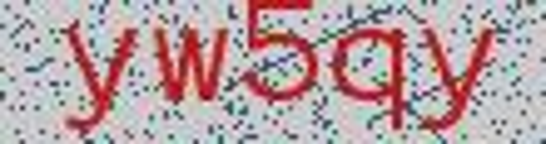5: (239, 2, 322, 108)
q: (326, 17, 410, 133)
w: (153, 15, 231, 109)
y: (46, 16, 143, 140), (417, 17, 495, 138)
